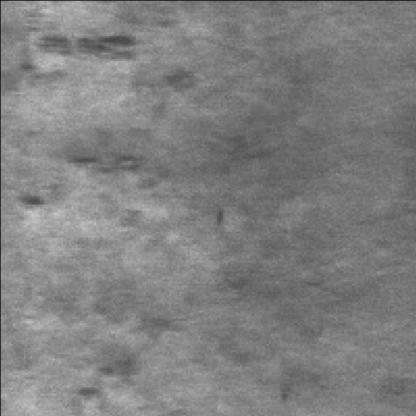rolled-in_scale: (21, 25, 175, 223), (21, 318, 177, 385)
